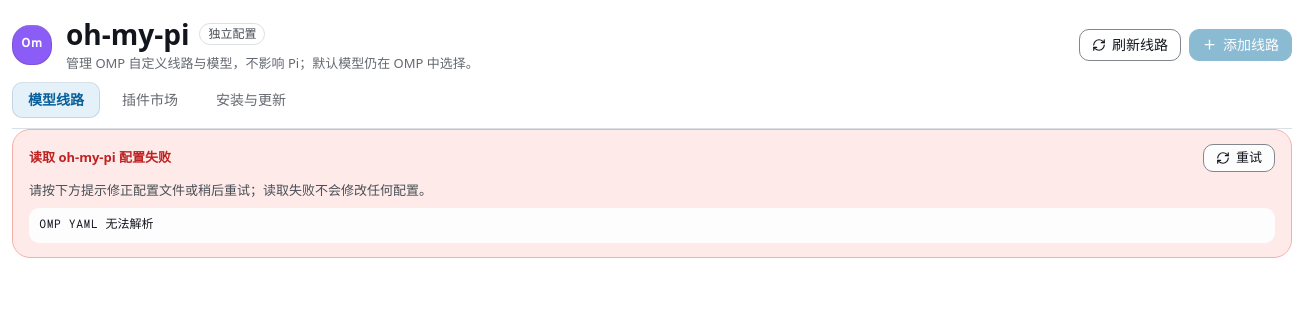
Scenario: OMP native routes and hierarchy › shows a read failure as the titled tool error card with a retry
The image size is (1304, 320).
Expected: the message shows "读取 oh-my-pi 配置失败", [29,148,171,166]
Expected: the message shows "OMP YAML 无法解析", [39,217,154,233]
What coordinates should you click on to do the following:
click the button "重试"
I would click on:
 (1239, 158)
Its box is [1203,144,1275,172].
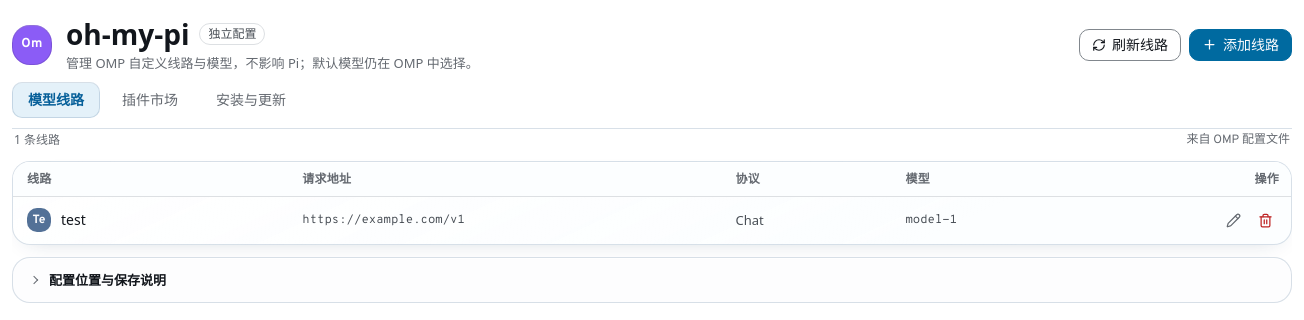
Now the text "test" is shown, box [61,211,86,229]
Now the message "读取 oh-my-pi 配置失败 重试 请按下方提示修正配置文件或稍后重试；读取失败不会修改任何配置。 OMP YAML 无法解析" is gone
